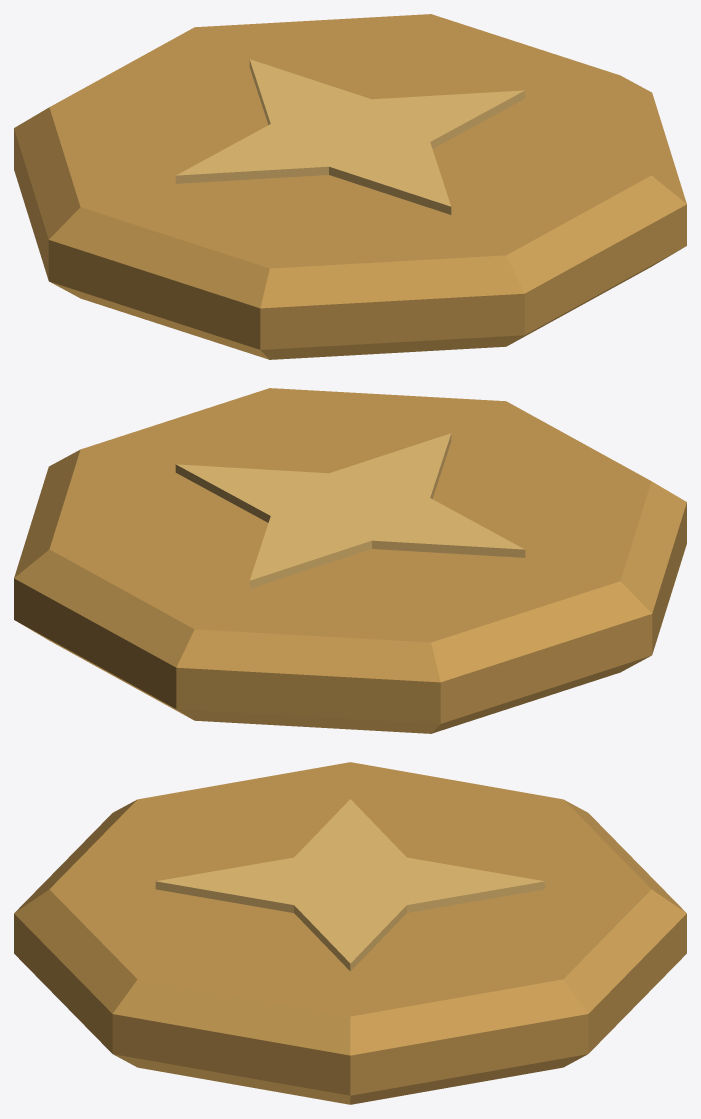
Rendered from magic_coin.glb.
The picture shows the model from 3 angles, top to bottom: view 1: azimuth 30°, elevation 25°; view 2: azimuth 150°, elevation 25°; view 3: azimuth 270°, elevation 25°; orthographic projection. The views are drawn at different scales.
Parts seen in each view (by area): view 1: SM_Magic_Coin; view 2: SM_Magic_Coin; view 3: SM_Magic_Coin.
Boxes of the visible parts, x1,y1,x2,y2 form: SM_Magic_Coin: (14, 14, 686, 359); SM_Magic_Coin: (14, 388, 686, 733); SM_Magic_Coin: (14, 762, 686, 1104).
Size of the model in its own units: 0.038 by 0.006 by 0.038.
Materials: 1 (1 with a texture image).
